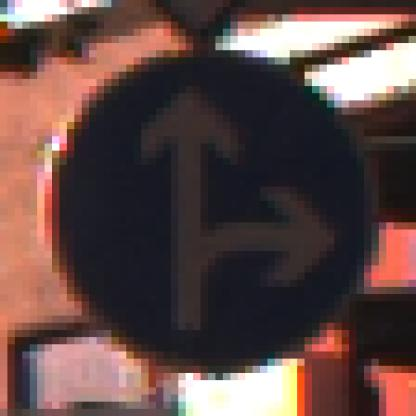Straight or Right: (38, 44, 380, 381)
